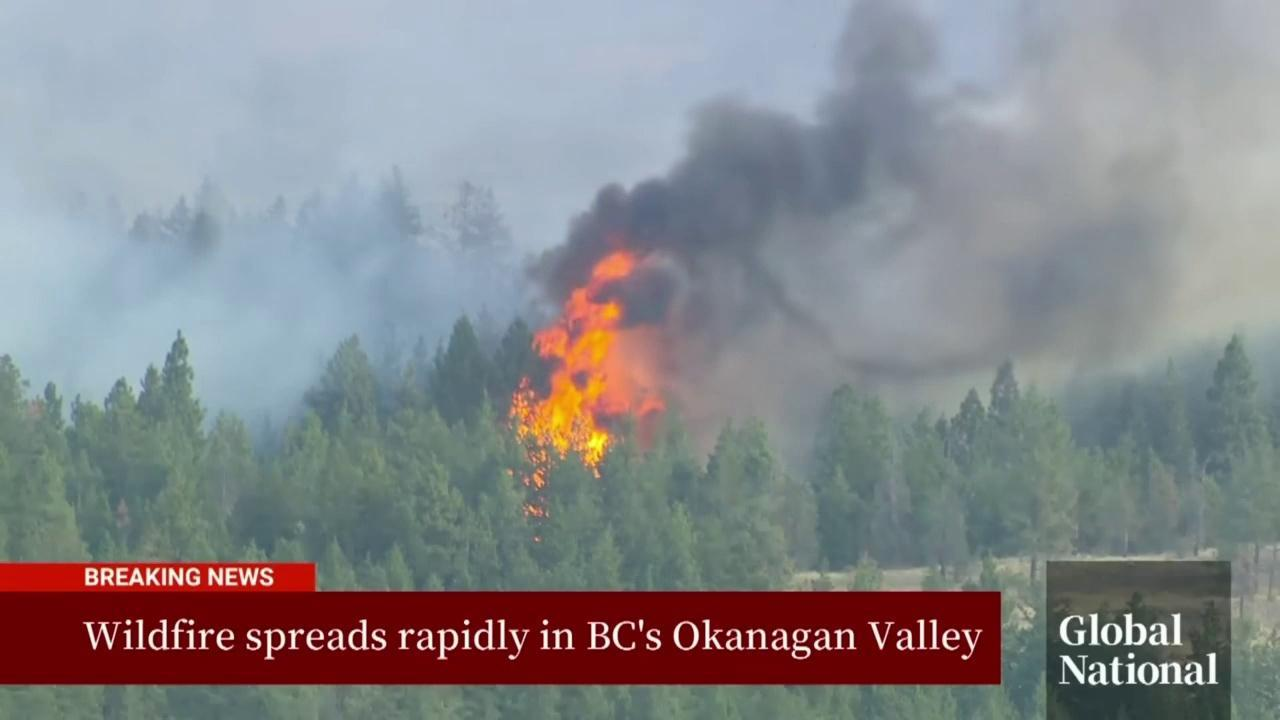fire: (503, 240, 671, 526)
smoke: (0, 0, 1280, 476)
